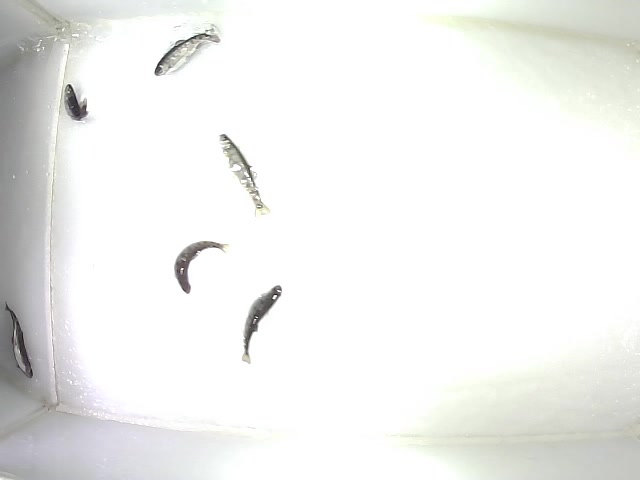fish: (218, 132, 272, 219), (152, 26, 223, 78), (241, 284, 283, 366), (173, 240, 231, 295), (3, 300, 35, 379), (64, 82, 89, 123)
